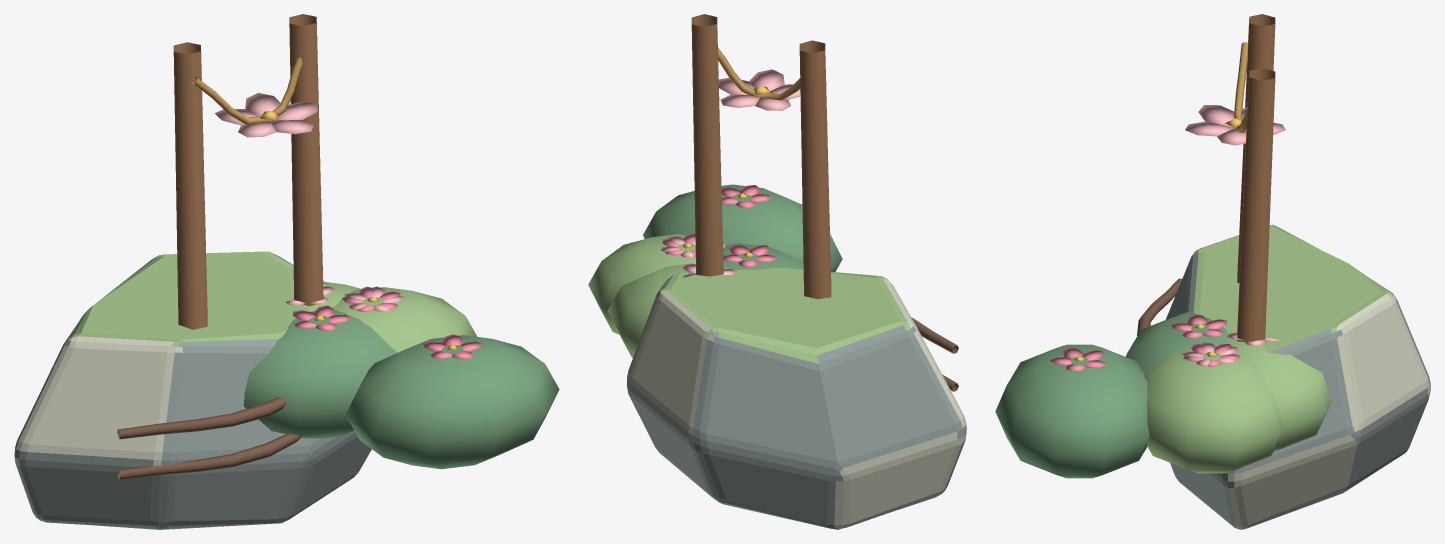
The model's file is hub_decor_a.glb.
The picture shows the model from 3 angles, left to right: view 1: azimuth 30°, elevation 25°; view 2: azimuth 150°, elevation 25°; view 3: azimuth 270°, elevation 25°; orthographic projection. The views are drawn at different scales.
Parts seen in each view (by area): view 1: Merged Orchard sage grass, Merged Garden slate stone, Merged Orchard moss tips, Merged Peachwood crate, Merged Worn ivory stepping stone, Merged Orchard exposed earth, Merged Light blush blossom, Merged Coral blush blossom, Merged Aged warm brass; view 2: Merged Garden slate stone, Merged Orchard moss tips, Merged Worn ivory stepping stone, Merged Peachwood crate, Merged Orchard sage grass, Merged Light blush blossom, Merged Coral blush blossom, Merged Aged warm brass, Merged Orchard exposed earth; view 3: Merged Orchard moss tips, Merged Orchard sage grass, Merged Worn ivory stepping stone, Merged Garden slate stone, Merged Peachwood crate, Merged Light blush blossom, Merged Coral blush blossom, Merged Aged warm brass, Merged Orchard exposed earth.
Part boxes in pixels (left/top/right/bottom): Merged Orchard sage grass: left=243, top=310, right=559, bottom=469; Merged Garden slate stone: left=14, top=254, right=371, bottom=529; Merged Orchard moss tips: left=68, top=251, right=477, bottom=352; Merged Peachwood crate: left=173, top=14, right=323, bottom=329; Merged Worn ivory stepping stone: left=14, top=251, right=258, bottom=491; Merged Orchard exposed earth: left=117, top=397, right=301, bottom=479; Merged Light blush blossom: left=215, top=92, right=403, bottom=311; Merged Coral blush blossom: left=293, top=286, right=482, bottom=359; Merged Aged warm brass: left=192, top=57, right=302, bottom=124; Merged Garden slate stone: left=627, top=274, right=966, bottom=529; Merged Orchard moss tips: left=588, top=234, right=910, bottom=363; Merged Worn ivory stepping stone: left=627, top=278, right=966, bottom=528; Merged Peachwood crate: left=691, top=14, right=831, bottom=299; Merged Orchard sage grass: left=643, top=184, right=842, bottom=271; Merged Light blush blossom: left=661, top=69, right=800, bottom=277; Merged Coral blush blossom: left=662, top=185, right=776, bottom=267; Merged Aged warm brass: left=718, top=48, right=800, bottom=100; Merged Orchard exposed earth: left=911, top=317, right=958, bottom=391; Merged Orchard moss tips: left=1144, top=224, right=1393, bottom=473; Merged Orchard sage grass: left=995, top=312, right=1228, bottom=478; Merged Worn ivory stepping stone: left=1200, top=235, right=1429, bottom=529; Merged Garden slate stone: left=1165, top=250, right=1430, bottom=529; Merged Peachwood crate: left=1237, top=14, right=1275, bottom=341; Merged Light blush blossom: left=1182, top=105, right=1285, bottom=366; Merged Coral blush blossom: left=1050, top=314, right=1240, bottom=371; Merged Aged warm brass: left=1234, top=42, right=1248, bottom=132; Merged Orchard exposed earth: left=1137, top=278, right=1181, bottom=335.
Size of the model in its own units: 1.42 by 1.45 by 1.3.
